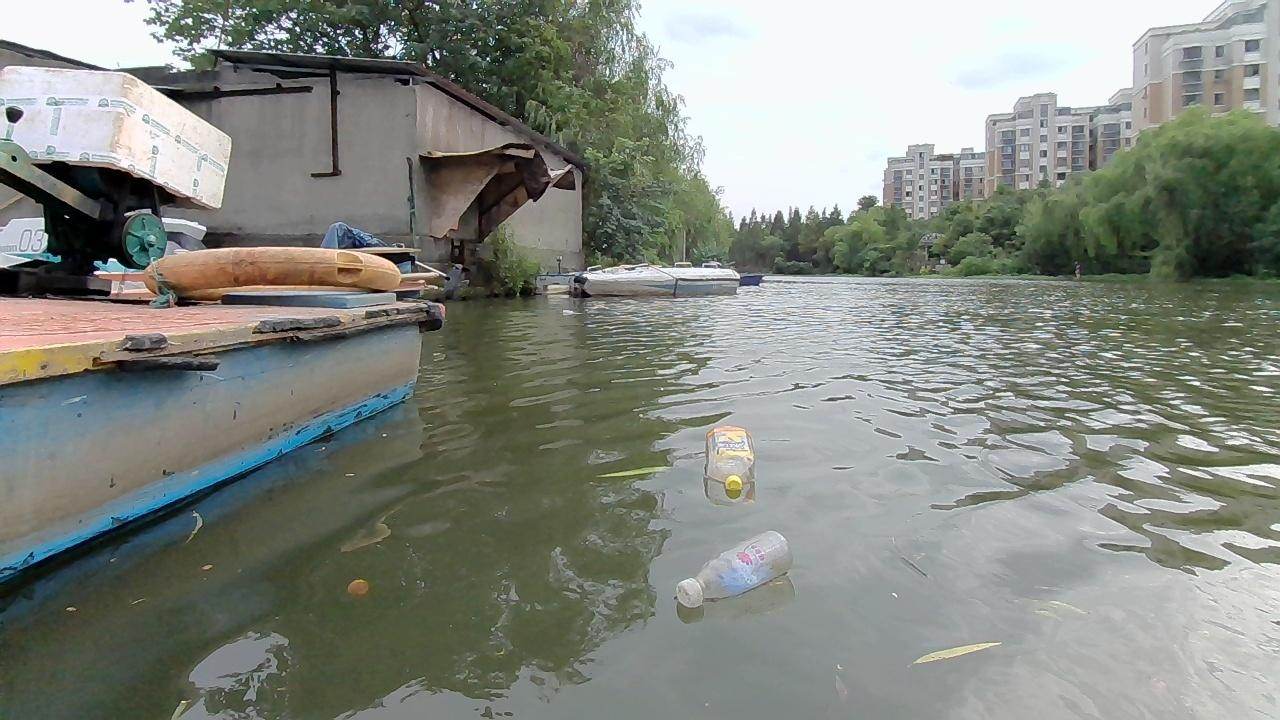bottle: (676, 524, 788, 611), (700, 423, 758, 497)
